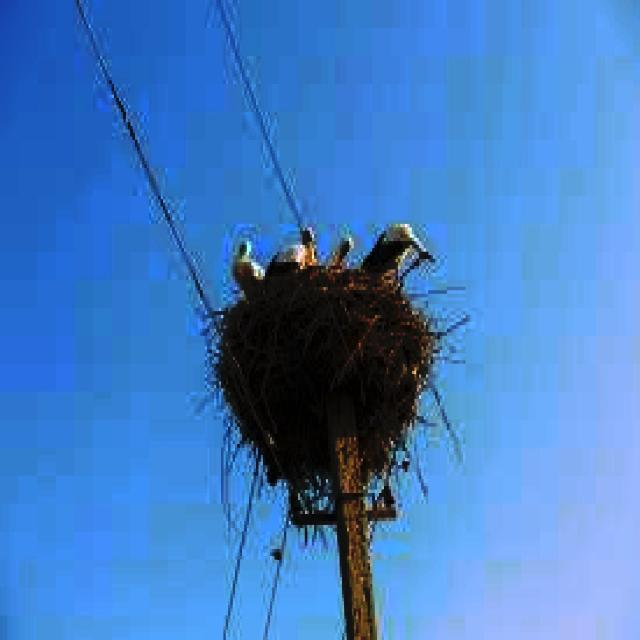obstruction: (219, 241, 433, 490)
poles: (326, 395, 375, 637)
wires: (74, 0, 219, 332), (216, 0, 303, 227), (221, 455, 261, 637), (261, 511, 289, 637)
